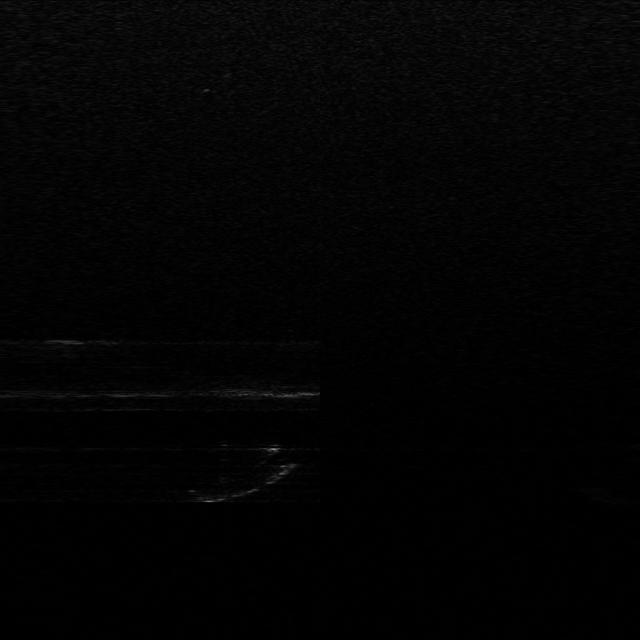tyre: (176, 434, 306, 507)
